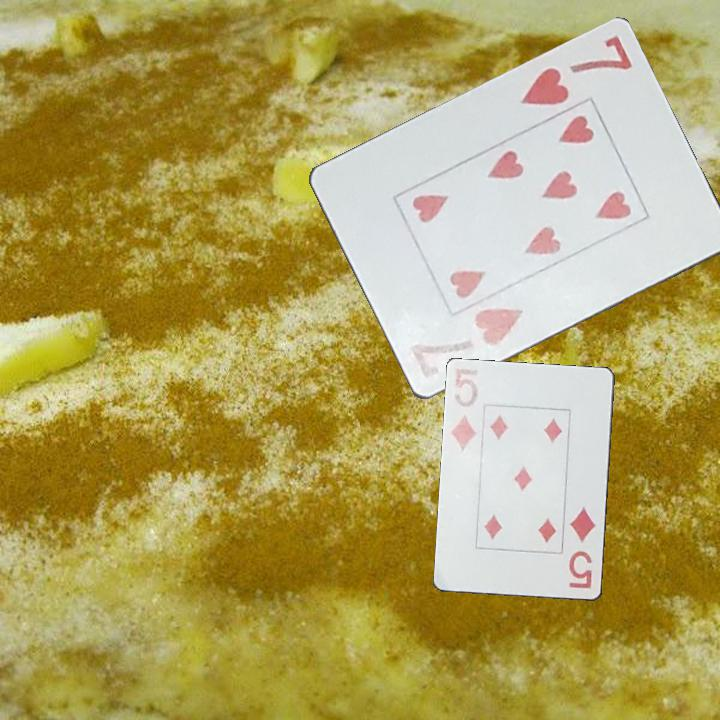5d: (565, 504, 599, 592), (447, 375, 481, 454)
7h: (406, 305, 526, 382), (517, 33, 635, 109)
